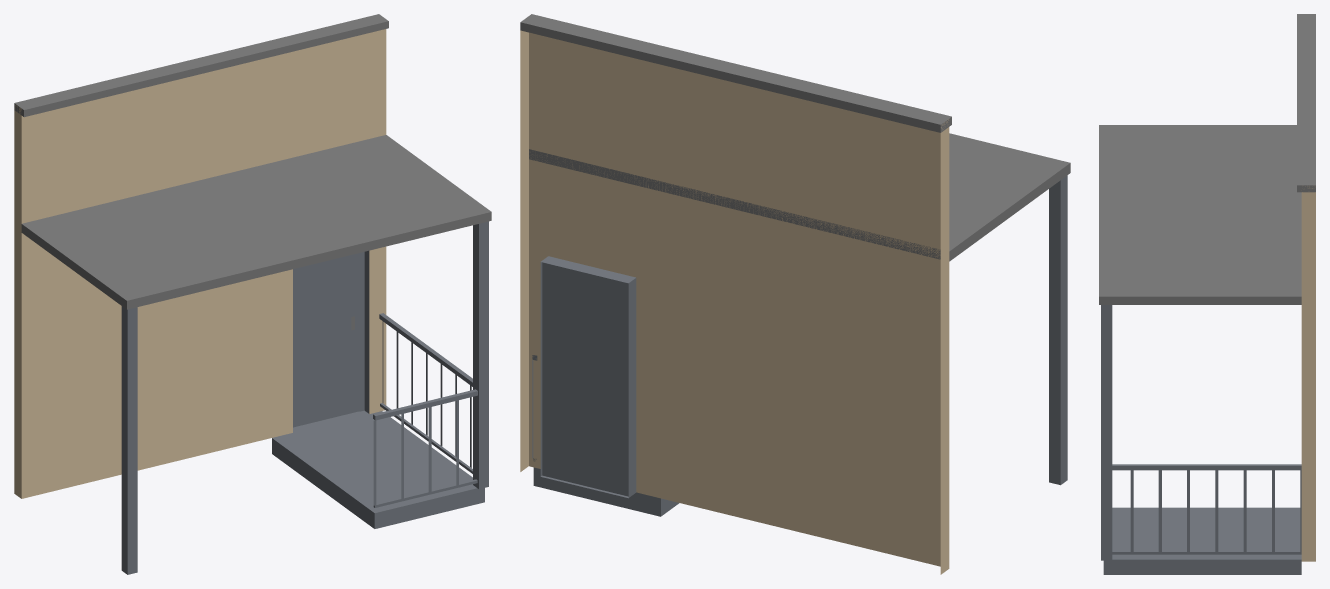
File: top-stair.fbx
The picture shows the model from 3 angles, left to right: view 1: azimuth 30°, elevation 25°; view 2: azimuth 150°, elevation 25°; view 3: azimuth 270°, elevation 25°; orthographic projection. The views are drawn at different scales.
Parts seen in each view (by area): view 1: a2009/200/top-stair; view 2: a2009/200/top-stair; view 3: a2009/200/top-stair.
Boxes of the visible parts, x1=… form: a2009/200/top-stair: x1=14, y1=14, x2=491, y2=574; a2009/200/top-stair: x1=520, y1=14, x2=1070, y2=574; a2009/200/top-stair: x1=1099, y1=14, x2=1315, y2=574.
Bounding box in the file's own units: 4.3 × 4.58 × 2.3.
